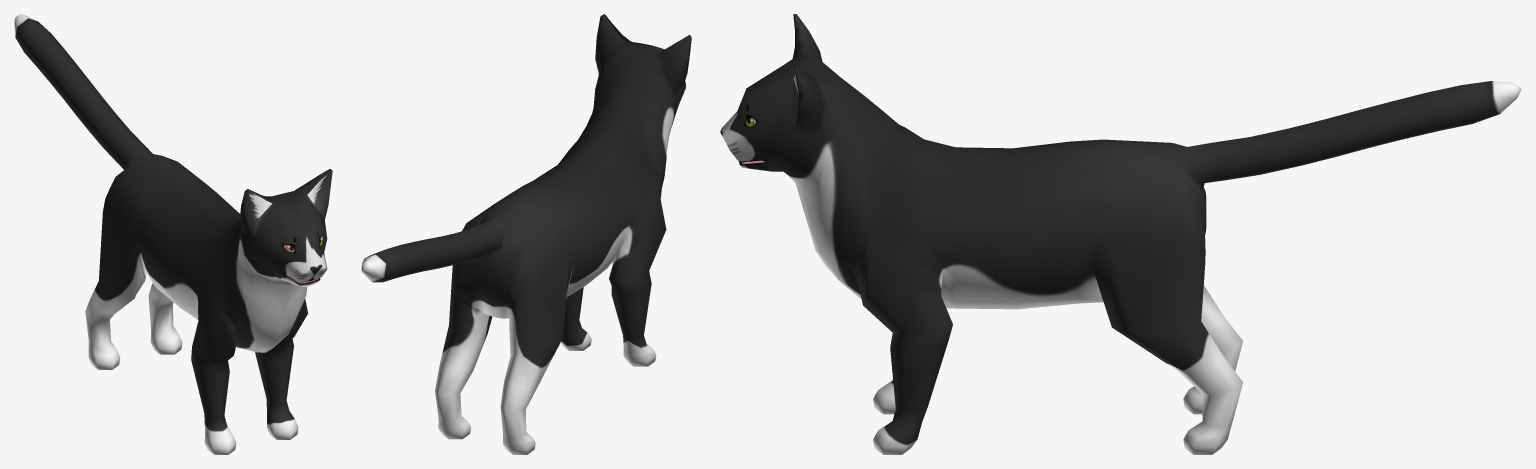
Rendered from socks_model.fbx.
The picture shows the model from 3 angles, left to right: view 1: azimuth 30°, elevation 25°; view 2: azimuth 150°, elevation 25°; view 3: azimuth 270°, elevation 25°; orthographic projection. The views are drawn at different scales.
Parts seen in each view (by area): view 1: socks_model; view 2: socks_model; view 3: socks_model.
Boxes of the visible parts, bbox=[...] form: socks_model: bbox=[14, 14, 332, 454]; socks_model: bbox=[361, 14, 691, 454]; socks_model: bbox=[720, 14, 1521, 454].
Bounding box in the file's own units: 2.94 × 8.74 × 16.4.
